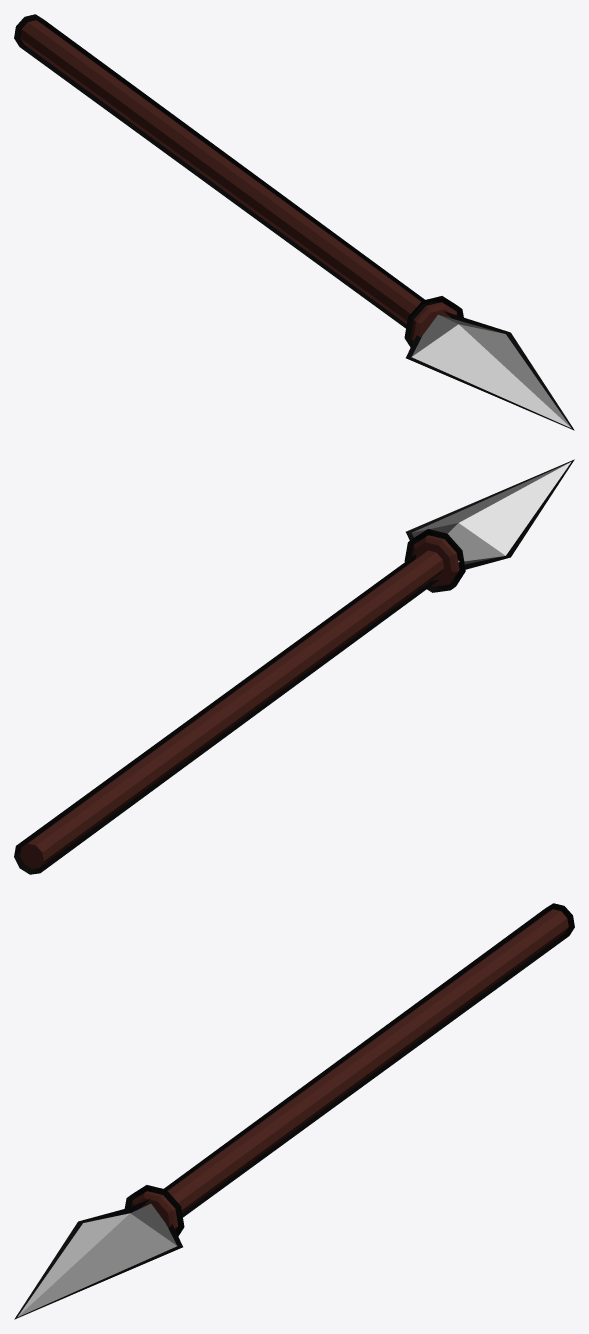
File: Lanca_Goblin_Gun.fbx
3 renders of one model, top to bottom at view 1: azimuth 30°, elevation 25°; view 2: azimuth 150°, elevation 25°; view 3: azimuth 330°, elevation 25°, orthographic.
Visible parts, largest first — view 1: Lanca_Goblin; view 2: Lanca_Goblin; view 3: Lanca_Goblin.
Boxes of the visible parts, x1,y1,x2,y2 form: Lanca_Goblin: [14, 14, 574, 430]; Lanca_Goblin: [14, 459, 574, 874]; Lanca_Goblin: [14, 903, 574, 1319].
Bounding box in the file's own units: 0.1919 × 1.72 × 0.1006.
